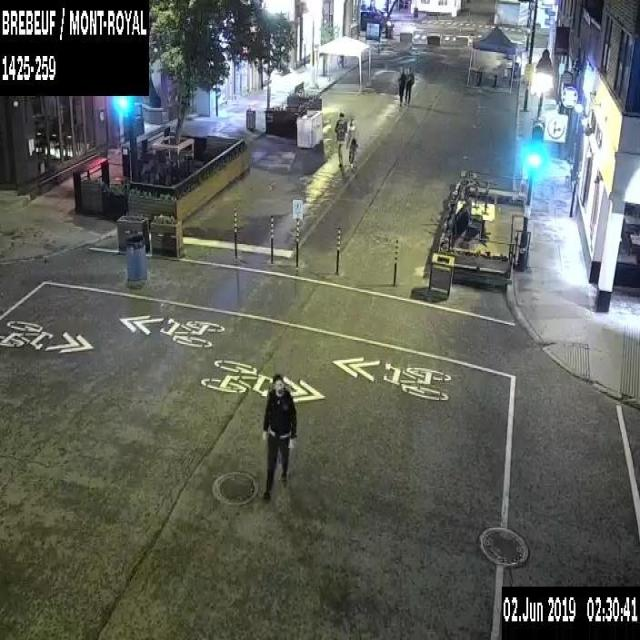pedestrian: (261, 375, 297, 500), (334, 112, 346, 171), (347, 114, 358, 169), (406, 67, 414, 106), (398, 66, 406, 105)
vehicle: (359, 8, 386, 29)
